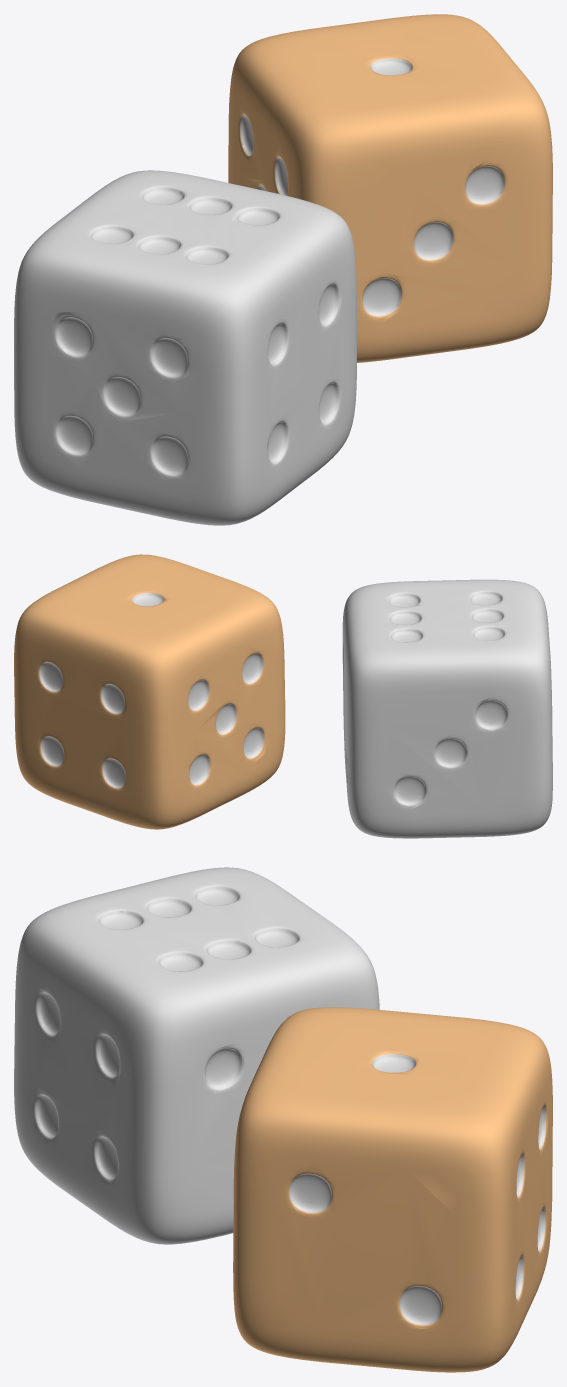
File: 4_dice.fbx
The picture shows the model from 3 angles, top to bottom: view 1: azimuth 30°, elevation 25°; view 2: azimuth 150°, elevation 25°; view 3: azimuth 270°, elevation 25°; orthographic projection. The views are drawn at different scales.
Visible parts, largest first — view 1: Dice, Dice.001; view 2: Dice.001, Dice; view 3: Dice.001, Dice.
Boxes of the visible parts, x1=… form: Dice: x1=14, y1=170, x2=356, y2=525; Dice.001: x1=228, y1=14, x2=552, y2=362; Dice.001: x1=14, y1=554, x2=285, y2=829; Dice: x1=342, y1=579, x2=552, y2=838; Dice.001: x1=233, y1=1007, x2=552, y2=1372; Dice: x1=14, y1=867, x2=379, y2=1244.
Bounding box in the file's own units: 1005 × 438 × 769.
